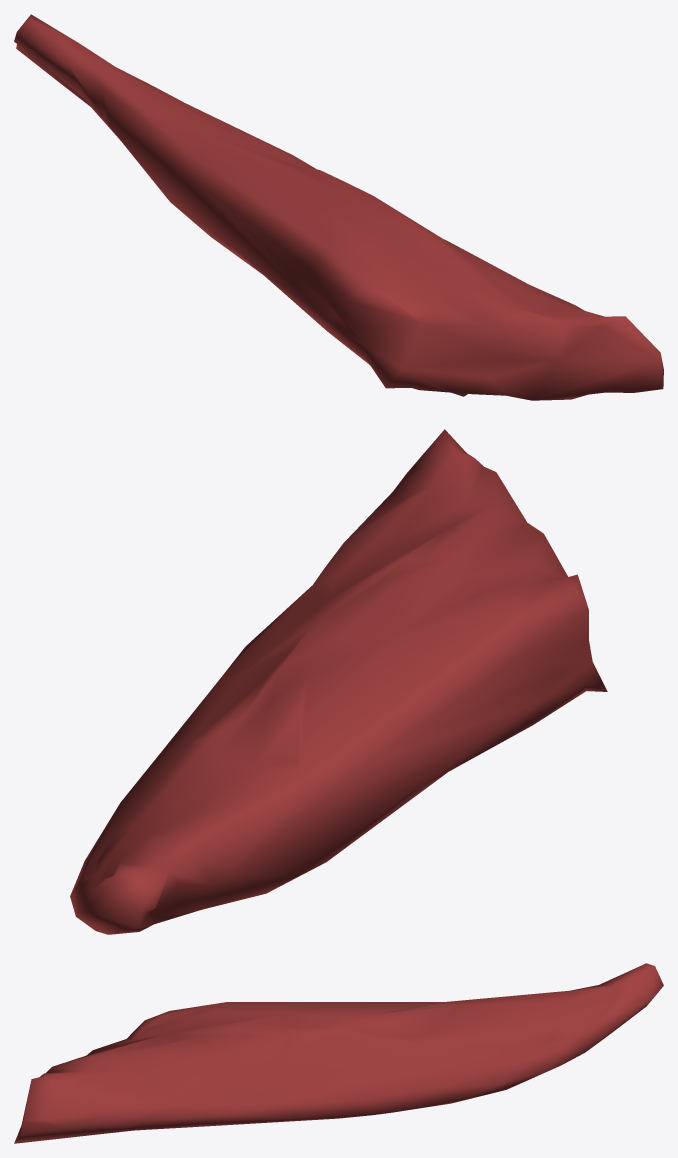
Rendered from anterior-belly-of-digastric-muscle-r.glb.
3 renders of one model, top to bottom at view 1: azimuth 30°, elevation 25°; view 2: azimuth 150°, elevation 25°; view 3: azimuth 270°, elevation 25°, orthographic. The views are drawn at different scales.
Visible parts, largest first — view 1: Anterior belly of digastric muscle.r; view 2: Anterior belly of digastric muscle.r; view 3: Anterior belly of digastric muscle.r.
Boxes of the visible parts, x1,y1,x2,y2 form: Anterior belly of digastric muscle.r: (14,14,663,400); Anterior belly of digastric muscle.r: (70,429,607,934); Anterior belly of digastric muscle.r: (14,963,663,1143).
Size of the model in its own units: 0.012 by 0.00633 by 0.0358.
